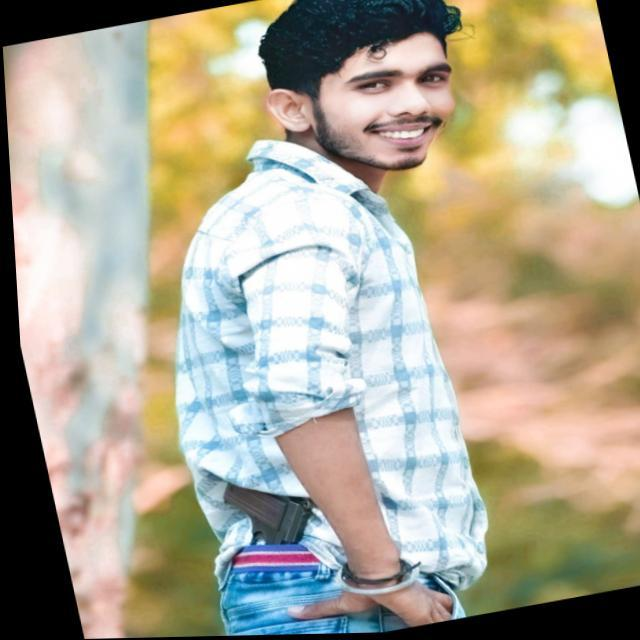weapon: (194, 463, 332, 609)
